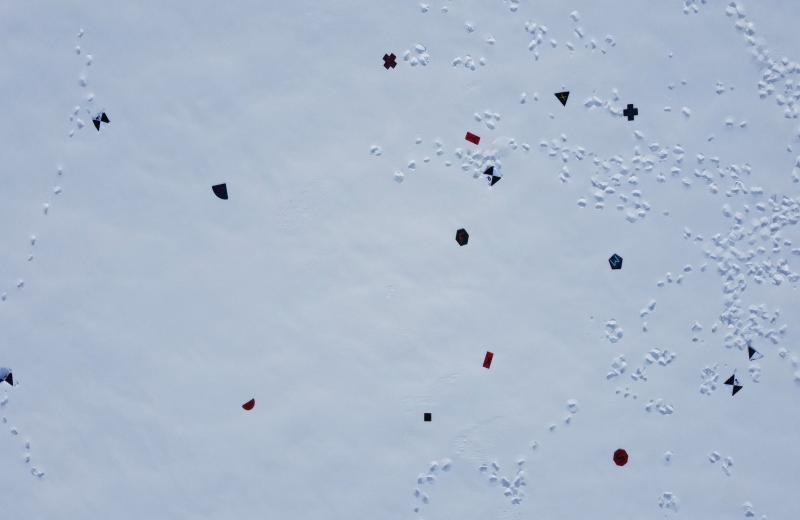Cross: (623, 103, 639, 121), (382, 51, 397, 70)
Hexagon: (455, 227, 470, 247)
Octagon: (612, 448, 628, 468)
Pentagon: (608, 252, 623, 272)
Quarter Circle: (211, 179, 228, 204)
Rectangle: (465, 128, 481, 148), (480, 351, 496, 370)
Semi Circle: (242, 398, 258, 412)
Square: (423, 410, 433, 423)
Triangle: (554, 89, 570, 108)
